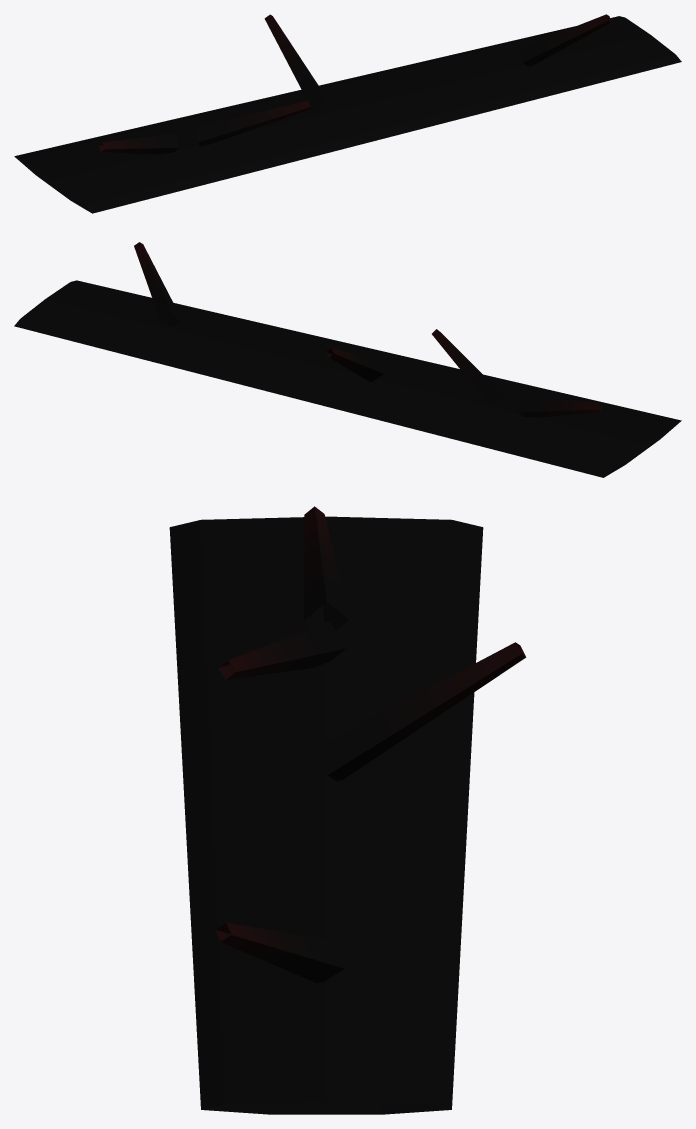
Rendered from fallen_log_a.glb.
The picture shows the model from 3 angles, top to bottom: view 1: azimuth 30°, elevation 25°; view 2: azimuth 150°, elevation 25°; view 3: azimuth 270°, elevation 25°; orthographic projection. The views are drawn at different scales.
Parts seen in each view (by area): view 1: fallen_log_a; view 2: fallen_log_a; view 3: fallen_log_a.
Boxes of the visible parts, left/top/right/bottom form: fallen_log_a: left=14, top=14, right=681, bottom=213; fallen_log_a: left=14, top=242, right=681, bottom=477; fallen_log_a: left=169, top=506, right=526, bottom=1114.
Bounding box in the file's own units: 2.72 × 0.3239 × 0.7031.
Materials: 1 (1 with a texture image).
